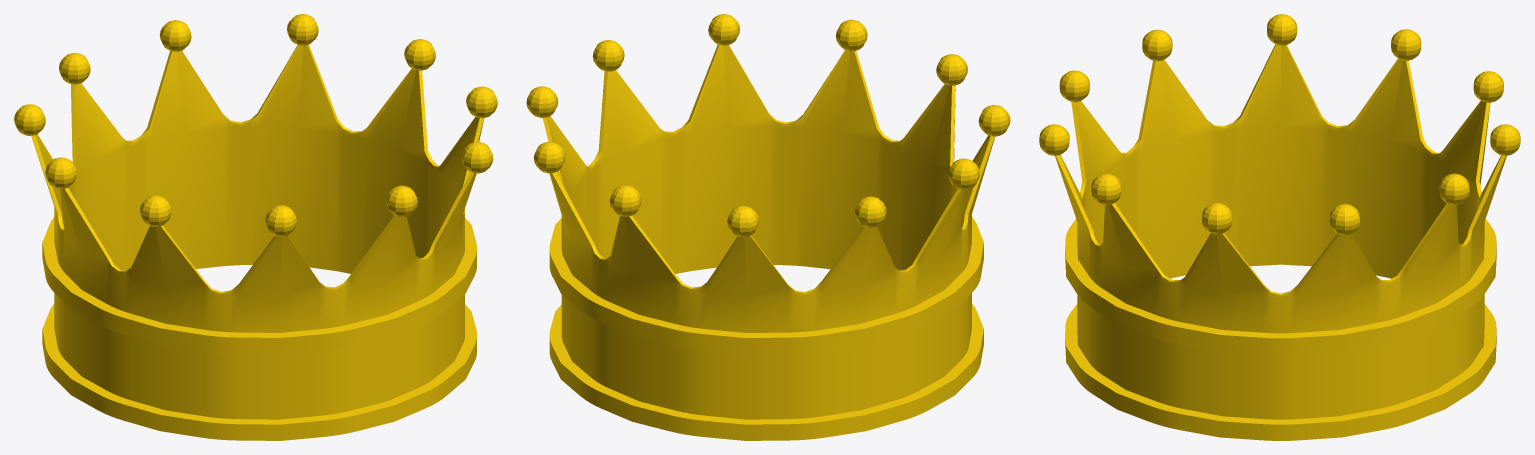
File: huangguang.fbx
3 renders of one model, left to right at view 1: azimuth 30°, elevation 25°; view 2: azimuth 150°, elevation 25°; view 3: azimuth 270°, elevation 25°, orthographic.
Parts seen in each view (by area): view 1: polySurface1; view 2: polySurface1; view 3: polySurface1.
Part boxes in pixels (box(x1,y1,x2,y2)): polySurface1: box(14, 14, 497, 440); polySurface1: box(526, 14, 1010, 440); polySurface1: box(1039, 14, 1520, 440).
Bounding box in the file's own units: 31.51 × 17.18 × 31.51.
